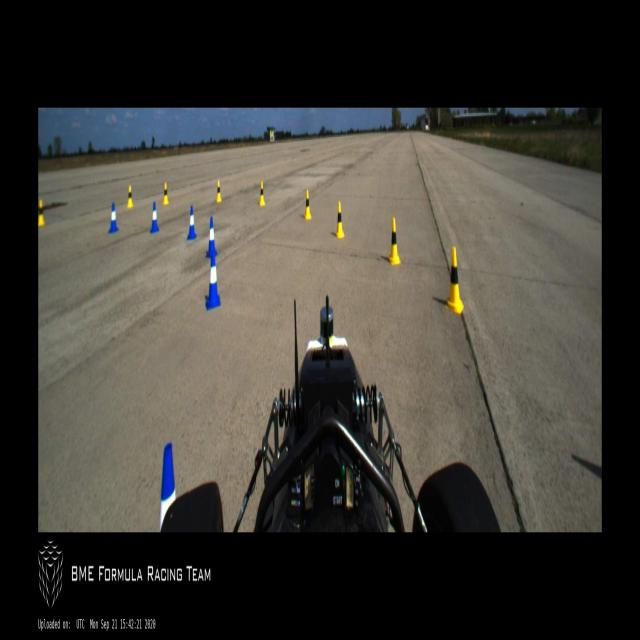blue_cone: (159, 443, 176, 532), (205, 251, 221, 310), (206, 217, 218, 258), (186, 205, 196, 240), (150, 202, 159, 232), (109, 203, 118, 232)
yellow_cone: (445, 246, 464, 314), (388, 218, 401, 265), (335, 202, 345, 238), (304, 190, 311, 219), (38, 199, 45, 226), (259, 182, 265, 206), (127, 185, 133, 208), (162, 183, 168, 205), (216, 181, 222, 202)
